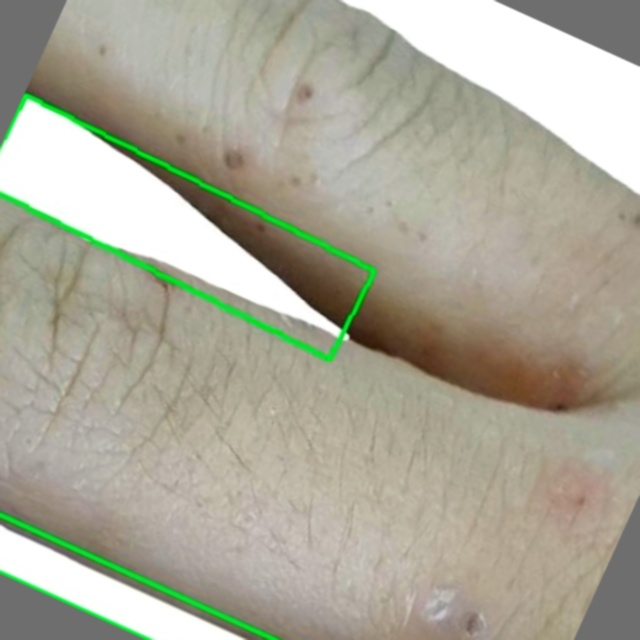Scabies: (0, 95, 373, 359)
